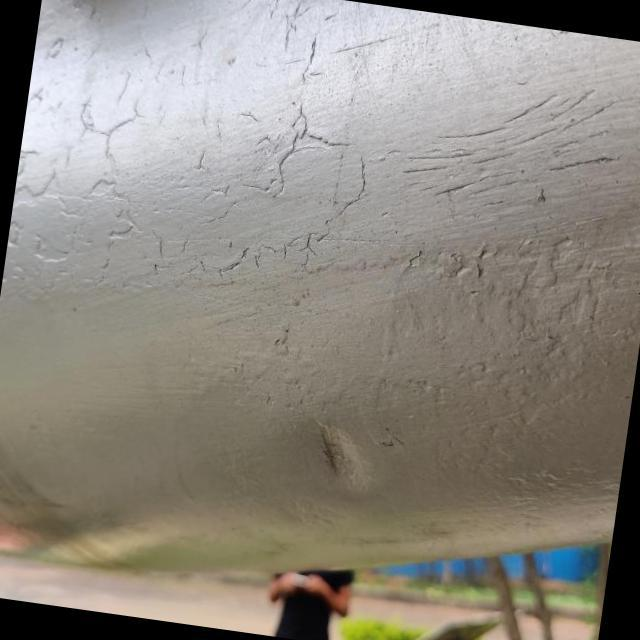Dent: (277, 392, 407, 520)
